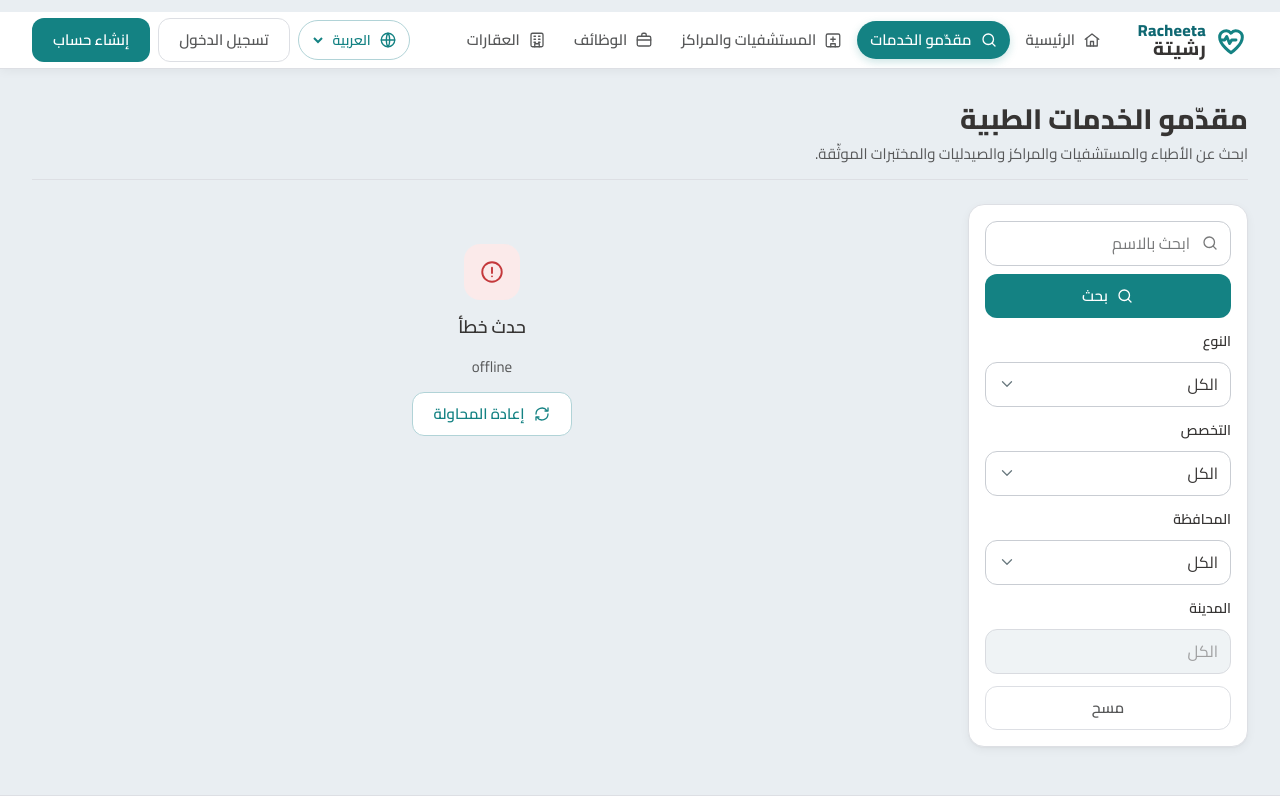
ProvidersPage › shows the error state with retry
The image size is (1280, 812).
Expected: the message with test id "async-error" shows "offline", [472,352,512,382]
What coordinates should you click on to do the following:
click the button "إعادة المحاولة"
I would click on:
 (492, 414)
Its box is [412,392,572,436].
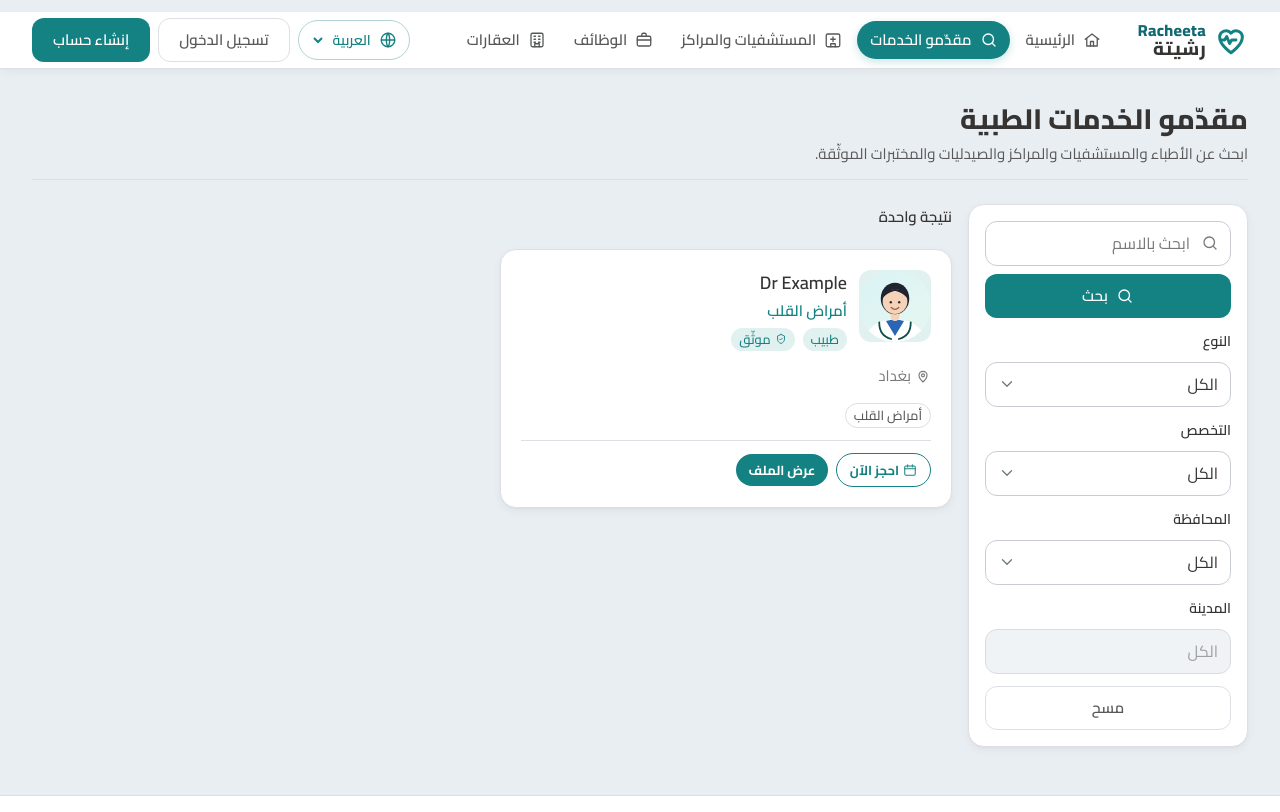
Now the link "Dr Example" is shown, box [760,266,847,299]
